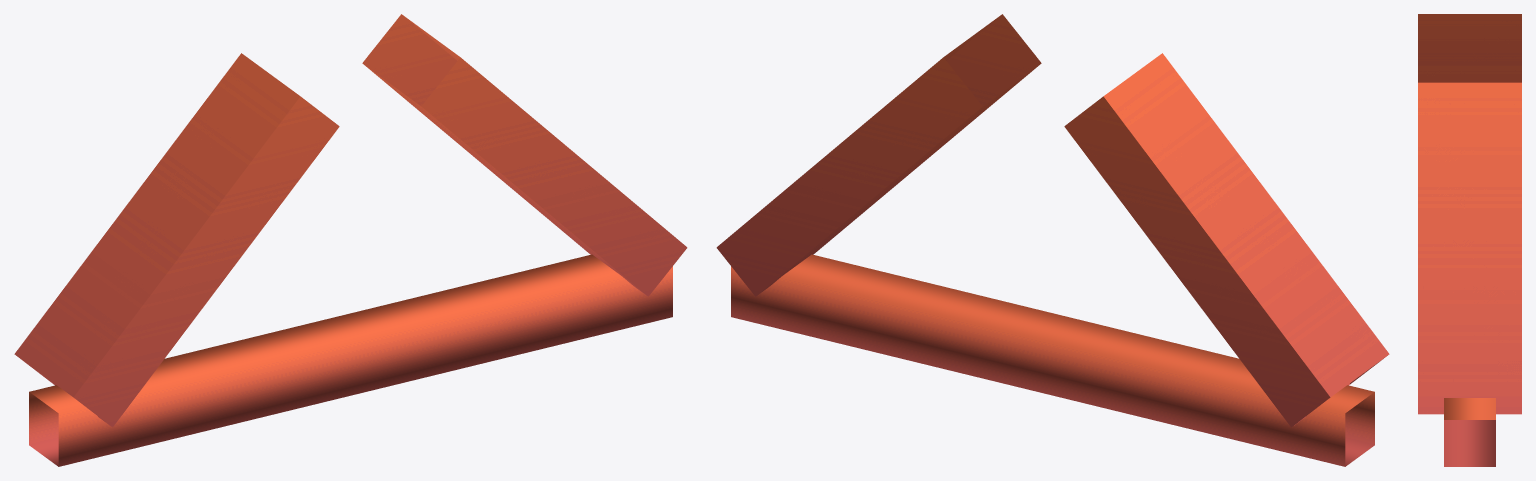
The model's file is coaster_hanging_segment.glb.
3 renders of one model, left to right at view 1: azimuth 30°, elevation 25°; view 2: azimuth 150°, elevation 25°; view 3: azimuth 270°, elevation 25°, orthographic. The views are drawn at different scales.
Parts seen in each view (by area): view 1: coaster-hanging-segment; view 2: coaster-hanging-segment; view 3: coaster-hanging-segment.
Boxes of the visible parts, x1,y1,x2,y2 form: coaster-hanging-segment: (14,14,687,466); coaster-hanging-segment: (716,14,1389,466); coaster-hanging-segment: (1418,14,1521,466).
Bounding box in the file's own units: 0.6 × 0.3044 × 0.1.
Materials: 1 (1 with a texture image).
